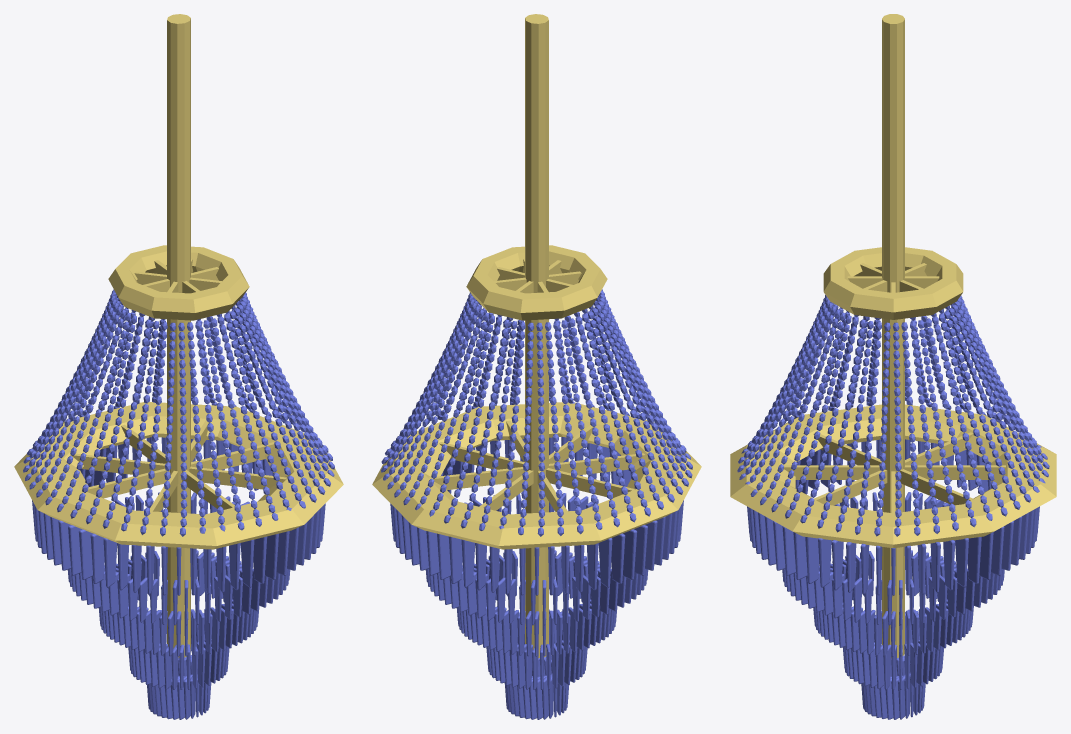
Rendered from Chandelier.fbx.
3 renders of one model, left to right at view 1: azimuth 30°, elevation 25°; view 2: azimuth 150°, elevation 25°; view 3: azimuth 270°, elevation 25°, orthographic.
Parts seen in each view (by area): view 1: ChandelierSkeleton, Icosphere, Cube, Cube.001, Cube.002, Cube.003, Cube.004; view 2: ChandelierSkeleton, Icosphere, Cube, Cube.001, Cube.002, Cube.003, Cube.004; view 3: ChandelierSkeleton, Icosphere, Cube, Cube.001, Cube.002, Cube.003, Cube.004.
Part boxes in pixels (bbox=[...]): ChandelierSkeleton: bbox=[14, 14, 343, 657]; Icosphere: bbox=[23, 289, 334, 536]; Cube: bbox=[32, 437, 325, 595]; Cube.001: bbox=[67, 492, 290, 625]; Cube.002: bbox=[98, 550, 259, 656]; Cube.003: bbox=[128, 609, 229, 689]; Cube.004: bbox=[147, 655, 211, 719]; ChandelierSkeleton: bbox=[372, 14, 701, 658]; Icosphere: bbox=[381, 289, 692, 536]; Cube: bbox=[390, 437, 683, 595]; Cube.001: bbox=[425, 493, 648, 625]; Cube.002: bbox=[456, 550, 617, 656]; Cube.003: bbox=[486, 609, 587, 689]; Cube.004: bbox=[504, 656, 569, 719]; ChandelierSkeleton: bbox=[730, 14, 1056, 657]; Icosphere: bbox=[737, 295, 1049, 536]; Cube: bbox=[747, 439, 1039, 595]; Cube.001: bbox=[782, 492, 1004, 625]; Cube.002: bbox=[813, 550, 973, 656]; Cube.003: bbox=[842, 609, 943, 689]; Cube.004: bbox=[861, 655, 925, 719].
Bounding box in the file's own units: 70 × 163 × 70.
